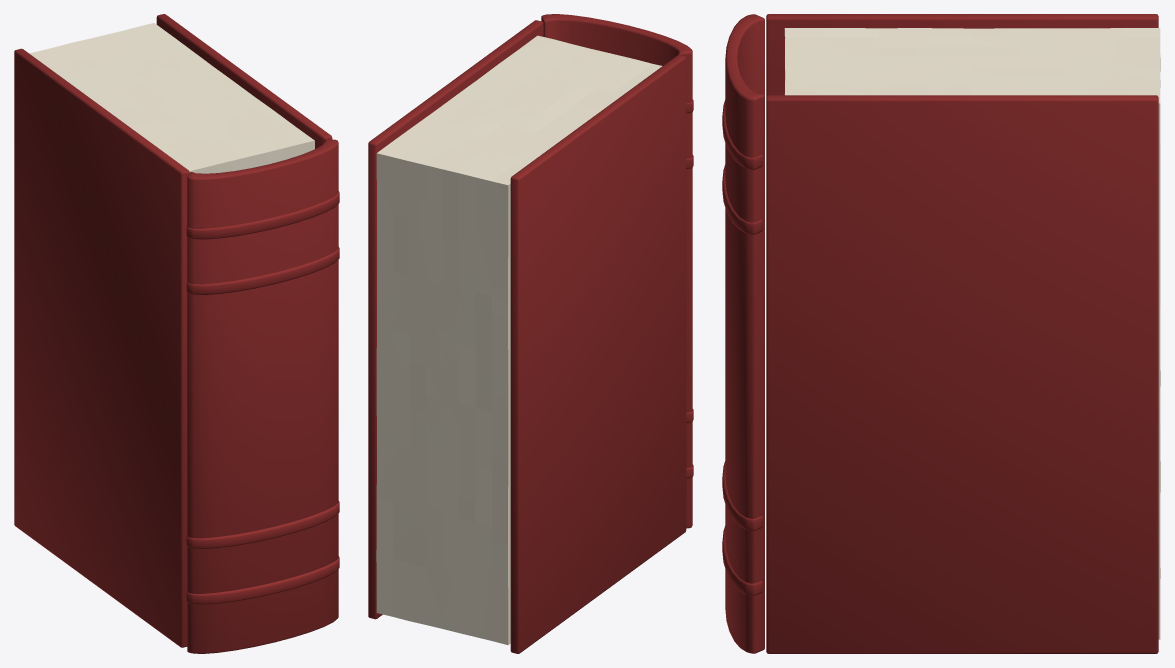
The model's file is living-book.glb.
3 views of the same model, side by side, from view 1: azimuth 30°, elevation 25°; view 2: azimuth 150°, elevation 25°; view 3: azimuth 270°, elevation 25° (orthographic). The views are drawn at different scales.
Visible parts, largest first — view 1: Book__Cover, Book__Pages; view 2: Book__Cover, Book__Pages; view 3: Book__Cover, Book__Pages.
Part boxes in pixels (x1,y1,x2,y2): Book__Cover: (14,14,339,653); Book__Pages: (29,23,314,173); Book__Cover: (368,14,693,653); Book__Pages: (376,35,662,644); Book__Cover: (722,14,1158,653); Book__Pages: (784,28,1160,639).
Bounding box in the file's own units: 10.02 × 30 × 21.45.
